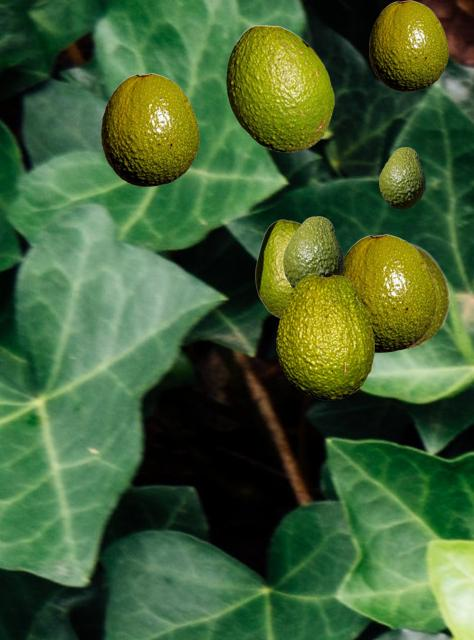avocado: (226, 25, 333, 151), (276, 273, 373, 399), (101, 73, 198, 185), (343, 234, 435, 351), (369, 0, 447, 90), (406, 243, 450, 349), (255, 219, 300, 318), (283, 216, 342, 287), (379, 147, 424, 208)
